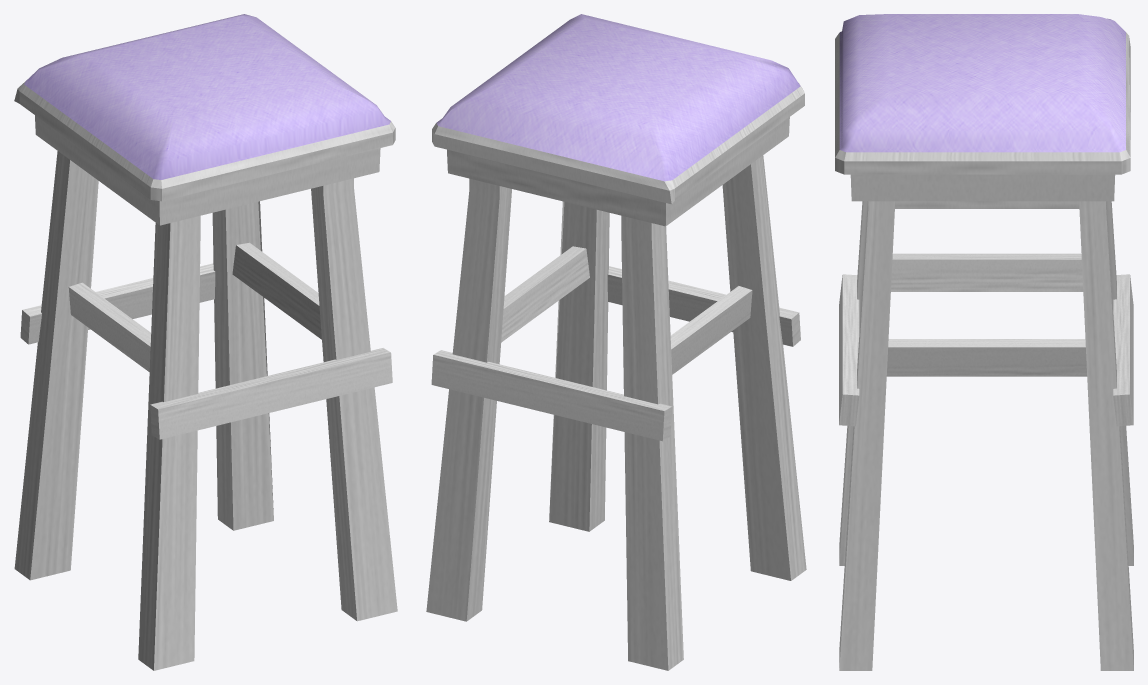
Rendered from Barstool_D_2.FBX.
3 renders of one model, left to right at view 1: azimuth 30°, elevation 25°; view 2: azimuth 150°, elevation 25°; view 3: azimuth 270°, elevation 25°, orthographic. The views are drawn at different scales.
Visible parts, largest first — view 1: Bar_Stool; view 2: Bar_Stool; view 3: Bar_Stool.
Part boxes in pixels (<box>): Bar_Stool: <box>14,14,397,670</box>; Bar_Stool: <box>426,14,806,670</box>; Bar_Stool: <box>835,14,1133,670</box>.
Bounding box in the file's own units: 85.32 × 174 × 84.9.
